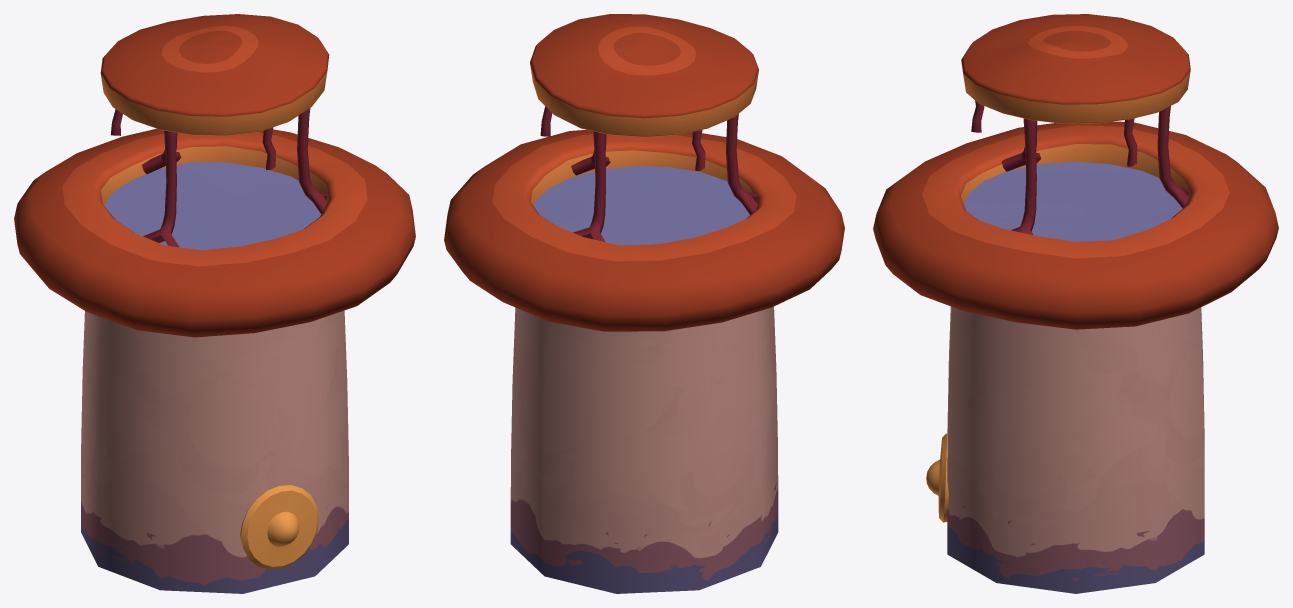
Rendered from L_House1.fbx.
The picture shows the model from 3 angles, left to right: view 1: azimuth 30°, elevation 25°; view 2: azimuth 150°, elevation 25°; view 3: azimuth 270°, elevation 25°; orthographic projection.
Parts seen in each view (by area): view 1: L_House1; view 2: L_House1; view 3: L_House1.
Part boxes in pixels (<box>): L_House1: <box>14,14,415,593</box>; L_House1: <box>444,14,844,593</box>; L_House1: <box>873,14,1278,593</box>.
Size of the model in its own units: 899 by 1217 by 899.
